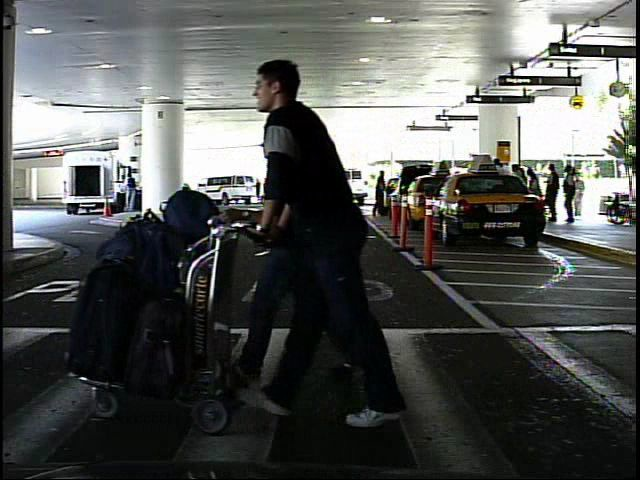person: (243, 49, 424, 429), (280, 112, 341, 385), (574, 172, 594, 218), (112, 170, 130, 219)
